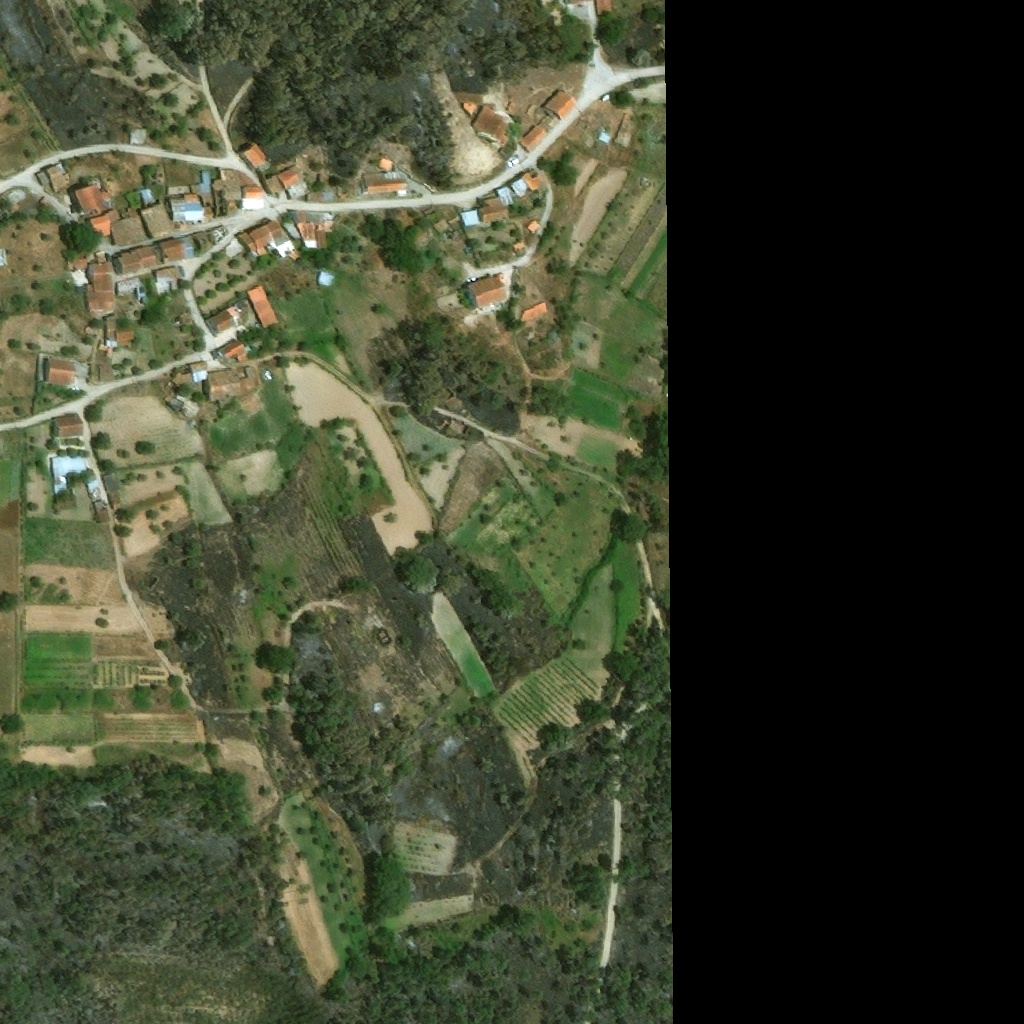0 no-damage: (238, 219, 302, 260), (458, 185, 516, 229), (169, 170, 213, 221), (470, 100, 515, 149), (85, 252, 117, 314), (282, 212, 334, 249), (208, 364, 260, 400), (465, 271, 510, 310), (264, 165, 312, 200), (51, 453, 89, 494), (247, 284, 280, 328), (115, 243, 160, 274), (542, 86, 580, 121), (70, 183, 112, 213), (140, 203, 176, 237), (208, 303, 245, 336), (111, 213, 149, 245), (362, 170, 408, 194), (36, 161, 70, 193), (105, 313, 136, 348), (42, 356, 77, 387), (519, 121, 552, 153), (213, 168, 242, 202), (510, 170, 547, 196), (159, 234, 192, 263), (612, 112, 638, 147), (52, 413, 86, 438), (217, 337, 251, 361), (117, 275, 151, 299), (241, 141, 271, 168), (153, 265, 183, 290), (175, 360, 207, 383), (519, 300, 549, 324), (239, 185, 267, 210), (86, 214, 112, 237), (209, 222, 231, 243), (138, 187, 157, 206), (101, 472, 119, 492), (95, 499, 111, 521), (461, 98, 480, 116), (318, 270, 339, 286), (131, 128, 148, 145), (99, 364, 117, 379), (104, 207, 122, 222), (308, 191, 334, 201), (526, 217, 542, 233), (434, 217, 450, 233), (513, 240, 528, 256), (379, 155, 395, 170), (108, 492, 122, 508), (85, 475, 98, 492), (598, 130, 613, 144), (68, 258, 87, 268), (0, 247, 8, 266), (602, 93, 612, 101)
3 destroyed: (378, 627, 395, 646)
4 un-classified: (597, 0, 613, 13), (564, 0, 586, 2)
